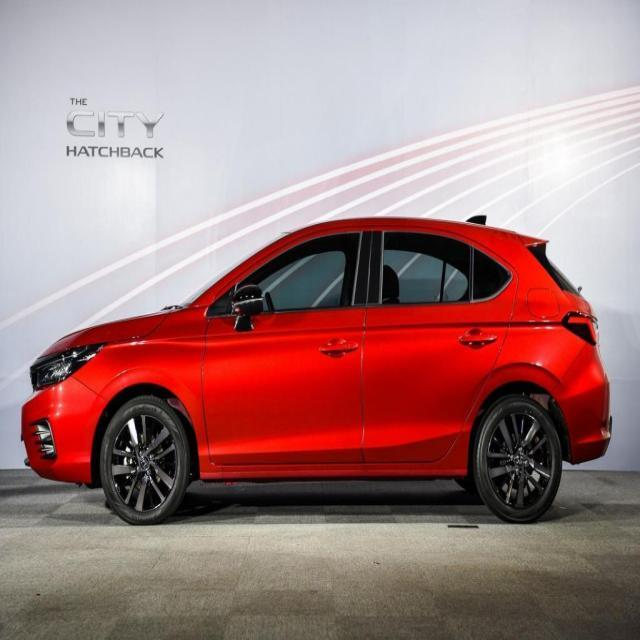Hatchback: (20, 217, 614, 528)
